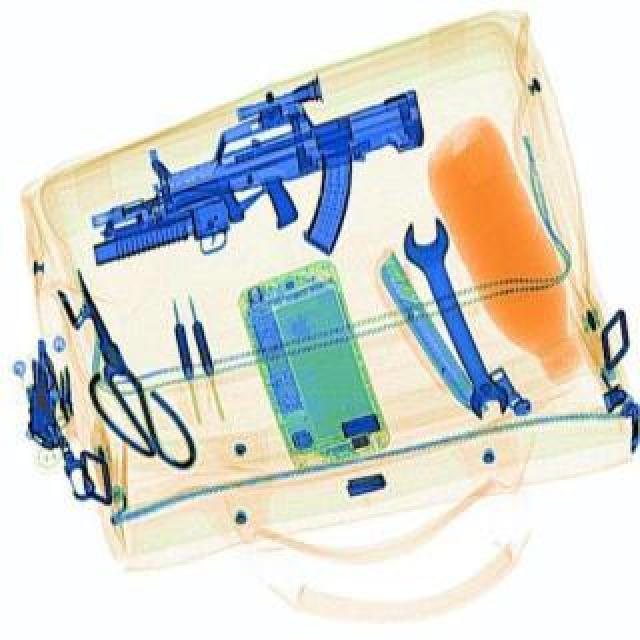gun: (86, 72, 426, 264)
knife: (70, 264, 198, 470)
scissors: (404, 212, 508, 424)
